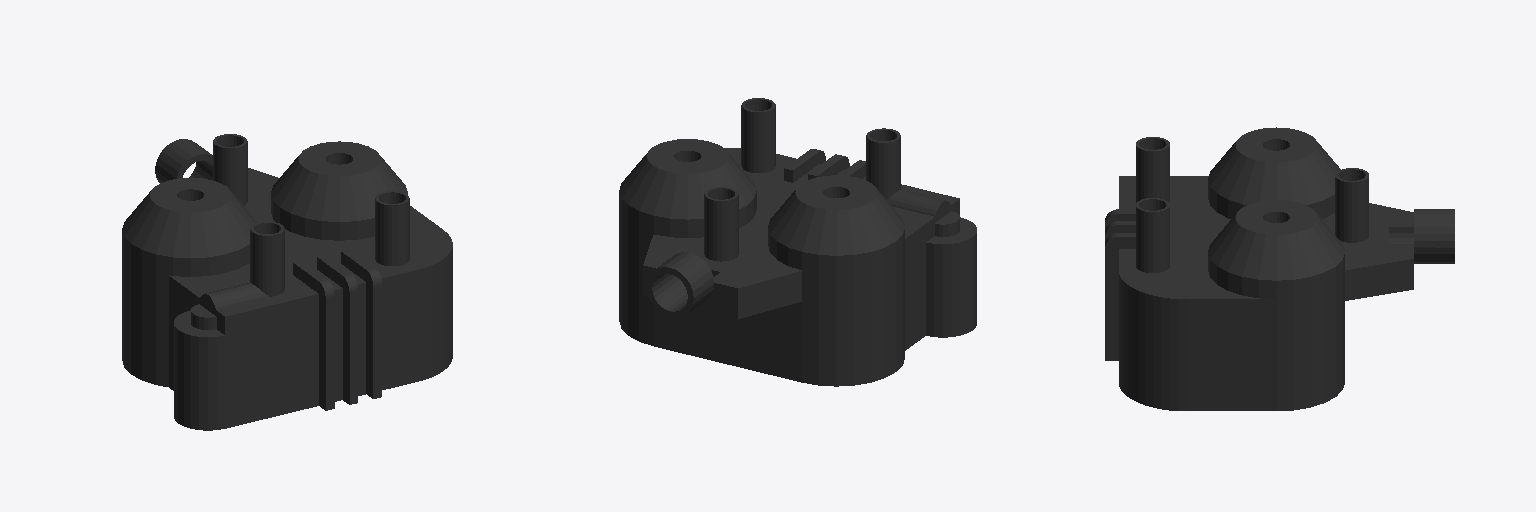
3 renders of one model, left to right at view 1: azimuth 30°, elevation 25°; view 2: azimuth 150°, elevation 25°; view 3: azimuth 270°, elevation 25°, orthographic.
Bounding box in the file's own units: 47.5 × 27.8 × 51.
Materials: 1 (1 with a texture image).